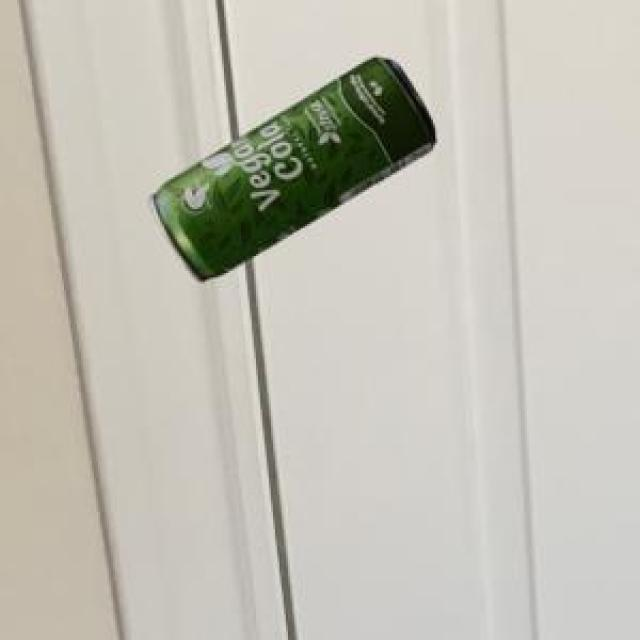Can: (146, 54, 430, 278)
